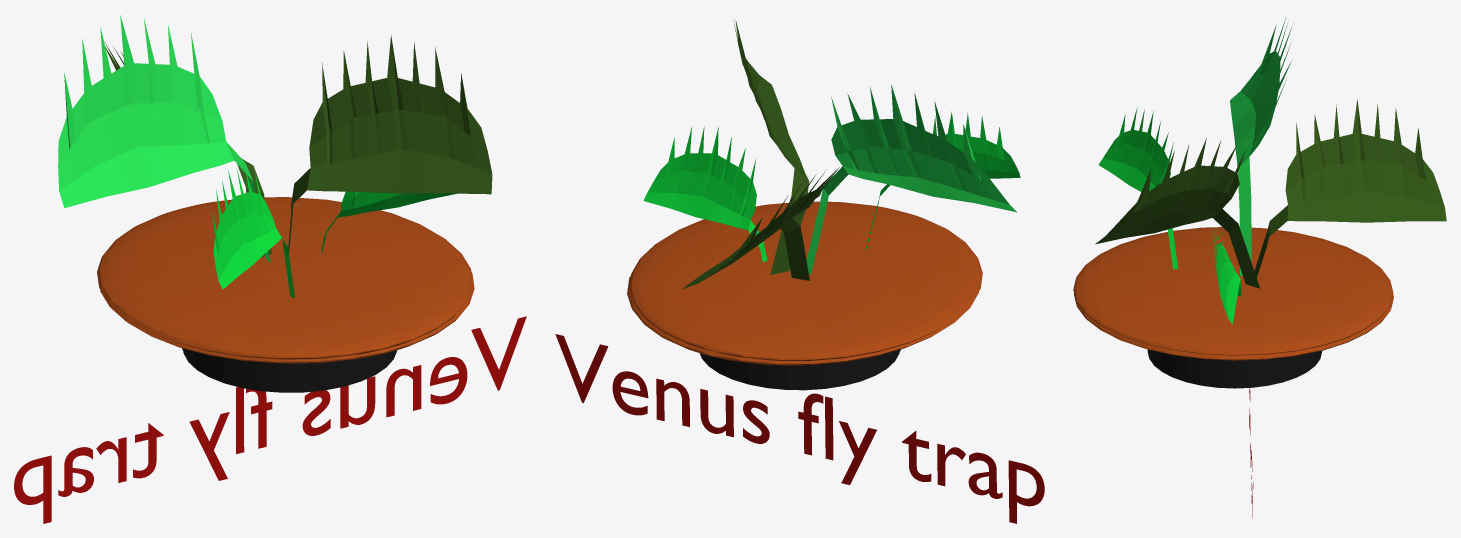
File: venus fly trap .gltf
The picture shows the model from 3 angles, left to right: view 1: azimuth 30°, elevation 25°; view 2: azimuth 150°, elevation 25°; view 3: azimuth 270°, elevation 25°; orthographic projection. The views are drawn at different scales.
Parts seen in each view (by area): view 1: Plane.009, Text; view 2: Plane.009, Text; view 3: Plane.009.
Part boxes in pixels (x1,y1,x2,y2): Plane.009: [58, 15, 492, 392]; Text: [14, 316, 526, 523]; Plane.009: [627, 20, 1020, 390]; Text: [555, 334, 1044, 523]; Plane.009: [1073, 18, 1446, 388].
Size of the model in its own units: 5.55 by 4.77 by 4.28.
